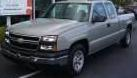front_view: (2, 29, 58, 66)
headlight: (37, 35, 59, 55)
side_glass: (94, 3, 114, 21)
